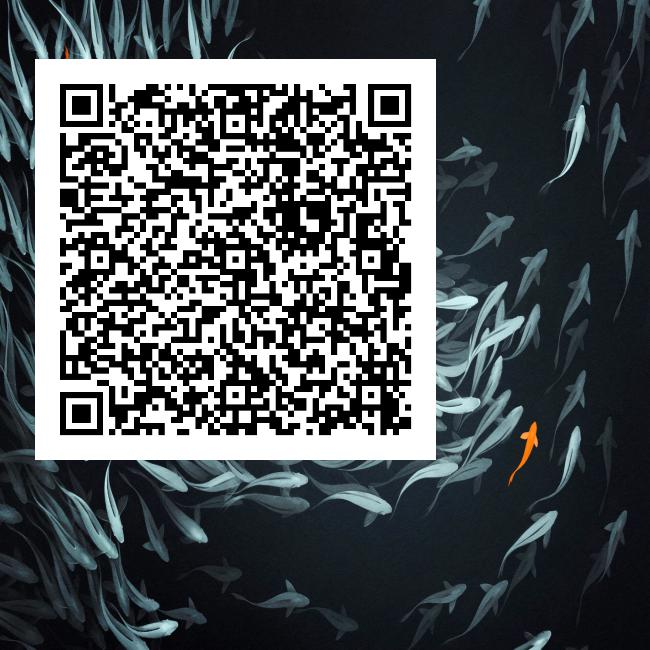qr_code: (35, 59, 435, 459)
